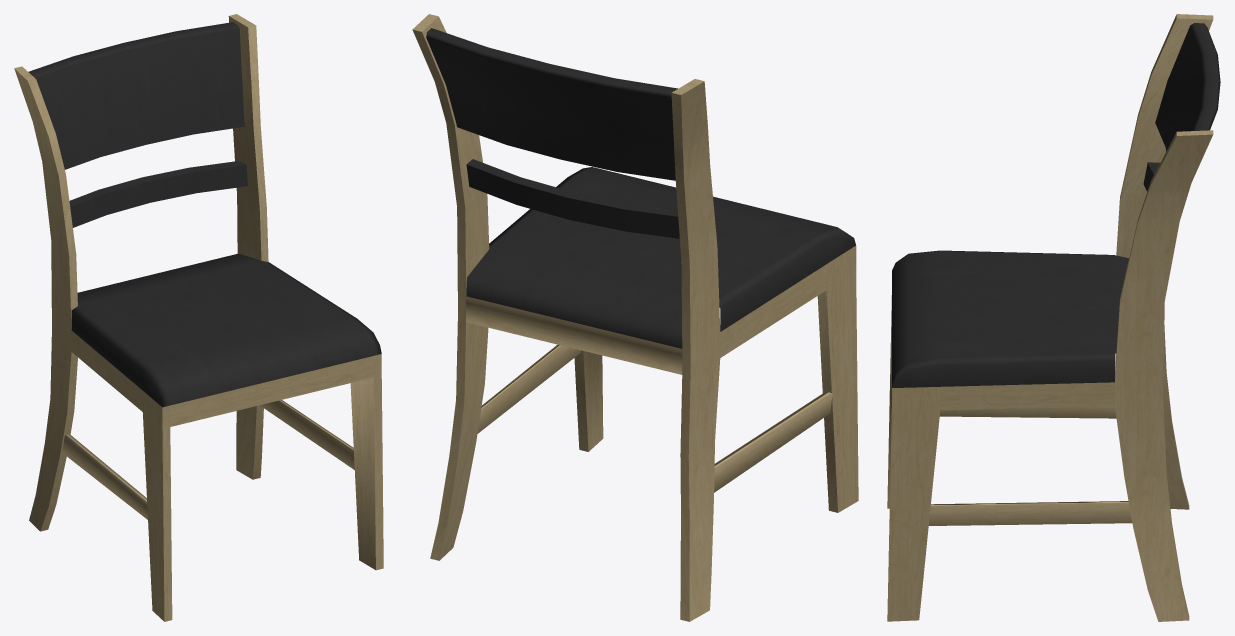
Rendered from LGSeochoB1CafeChair.fbx.
3 views of the same model, side by side, from view 1: azimuth 30°, elevation 25°; view 2: azimuth 150°, elevation 25°; view 3: azimuth 270°, elevation 25° (orthographic). The views are drawn at different scales.
Parts seen in each view (by area): view 1: LGSeochoB1CafePlastic, LGSeochoB1CafeWood; view 2: LGSeochoB1CafePlastic, LGSeochoB1CafeWood; view 3: LGSeochoB1CafeWood, LGSeochoB1CafePlastic.
Part boxes in pixels (x1,y1,x2,y2): LGSeochoB1CafePlastic: [28, 22, 381, 407]; LGSeochoB1CafeWood: [14, 14, 383, 621]; LGSeochoB1CafePlastic: [426, 28, 855, 348]; LGSeochoB1CafeWood: [412, 14, 858, 621]; LGSeochoB1CafeWood: [887, 14, 1213, 621]; LGSeochoB1CafePlastic: [892, 23, 1220, 387].
Size of the model in its own units: 52.04 by 97 by 60.01.
2 materials, 2 textured.
